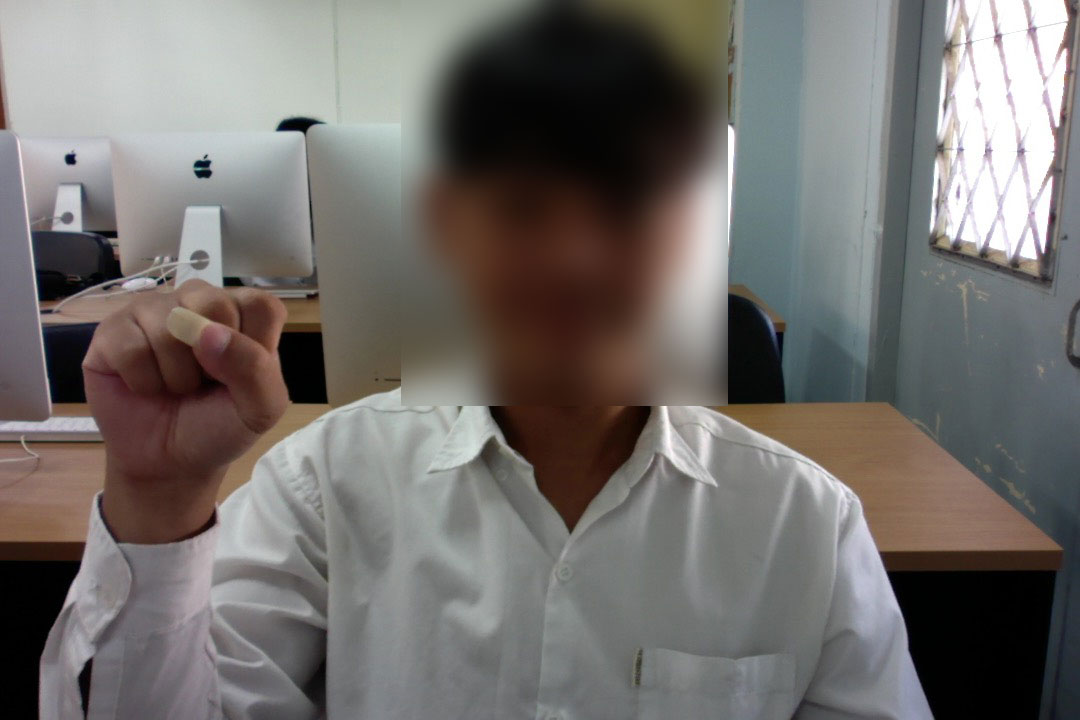sor: (73, 275, 297, 499)
